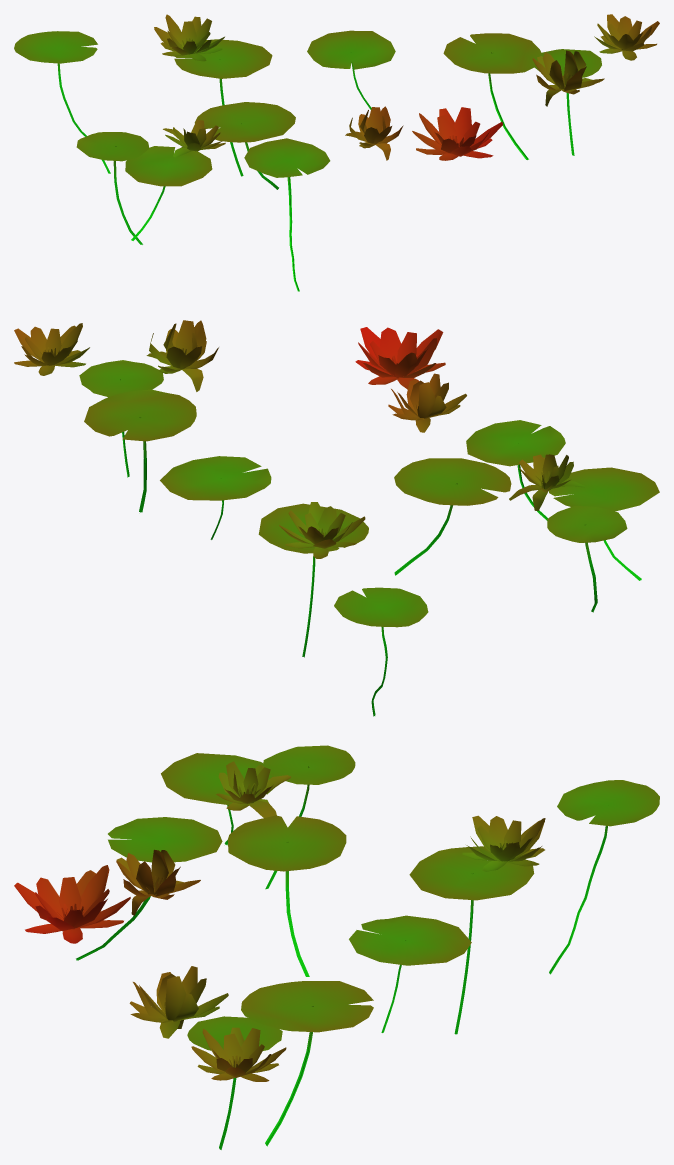
File: Var5_LOD0.fbx
The picture shows the model from 3 angles, top to bottom: view 1: azimuth 30°, elevation 25°; view 2: azimuth 150°, elevation 25°; view 3: azimuth 270°, elevation 25°; orthographic projection. The views are drawn at different scales.
Visible parts, largest first — view 1: _a5e4_Var5_LOD0; view 2: _a5e4_Var5_LOD0; view 3: _a5e4_Var5_LOD0.
Boxes of the visible parts, x1,y1,x2,y2 form: _a5e4_Var5_LOD0: [14, 14, 659, 291]; _a5e4_Var5_LOD0: [14, 320, 659, 716]; _a5e4_Var5_LOD0: [14, 745, 659, 1149].
Bounding box in the file's own units: 167 × 44.54 × 132.
